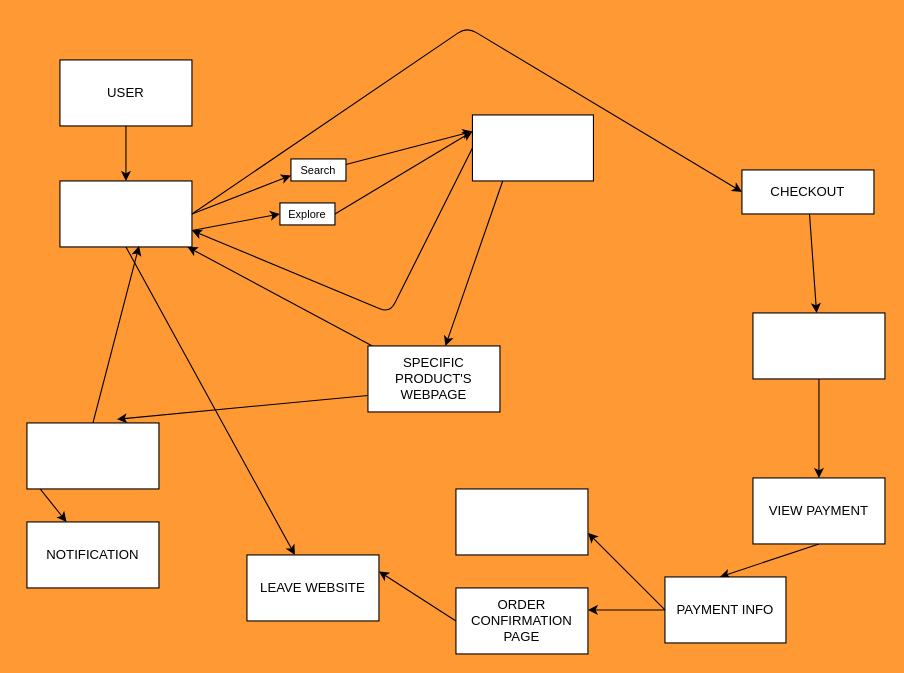
The diagram is 904 pixels wide and 673 high, and some of its shapes have lost their labels. The shapes that lost their labels are listed below. From the top down, each one's centre as x and y in pixels, then its label:
At pixel 532 147: "PRODUCTS".
At pixel 125 213: "WEBSITE".
At pixel 818 345: "VIEW CART".
At pixel 92 455: "ADD TO CART".
At pixel 521 521: "CONFIRMATION EMAIL".
